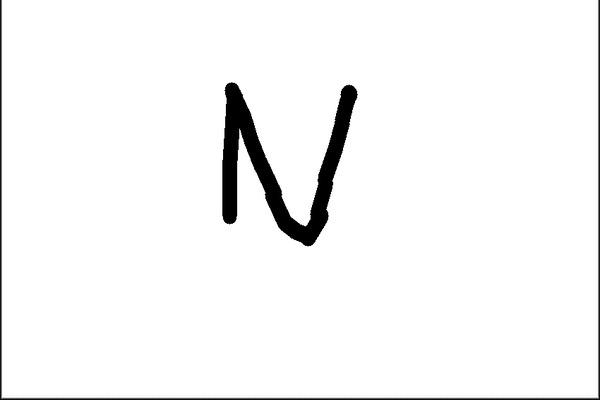N: (214, 76, 362, 249)
